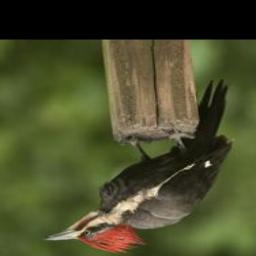Woodpecker: (38, 76, 248, 256)
